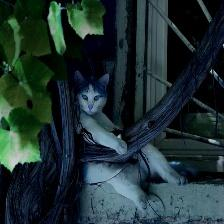kedo: (73, 70, 189, 210)
